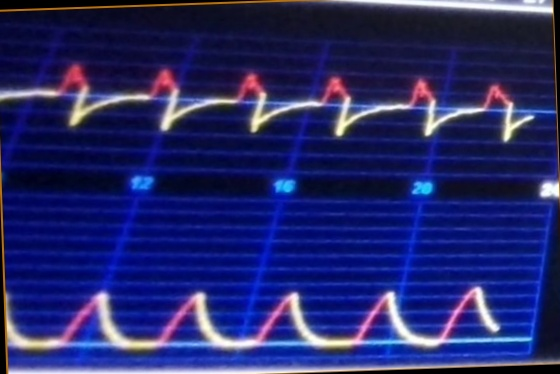Accumulation Flow: (3, 43, 535, 169)
Volume: (8, 257, 503, 360)
